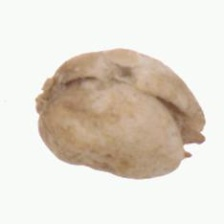L1: (154, 96, 206, 162), (30, 75, 60, 119)
L2: (35, 48, 206, 180)
